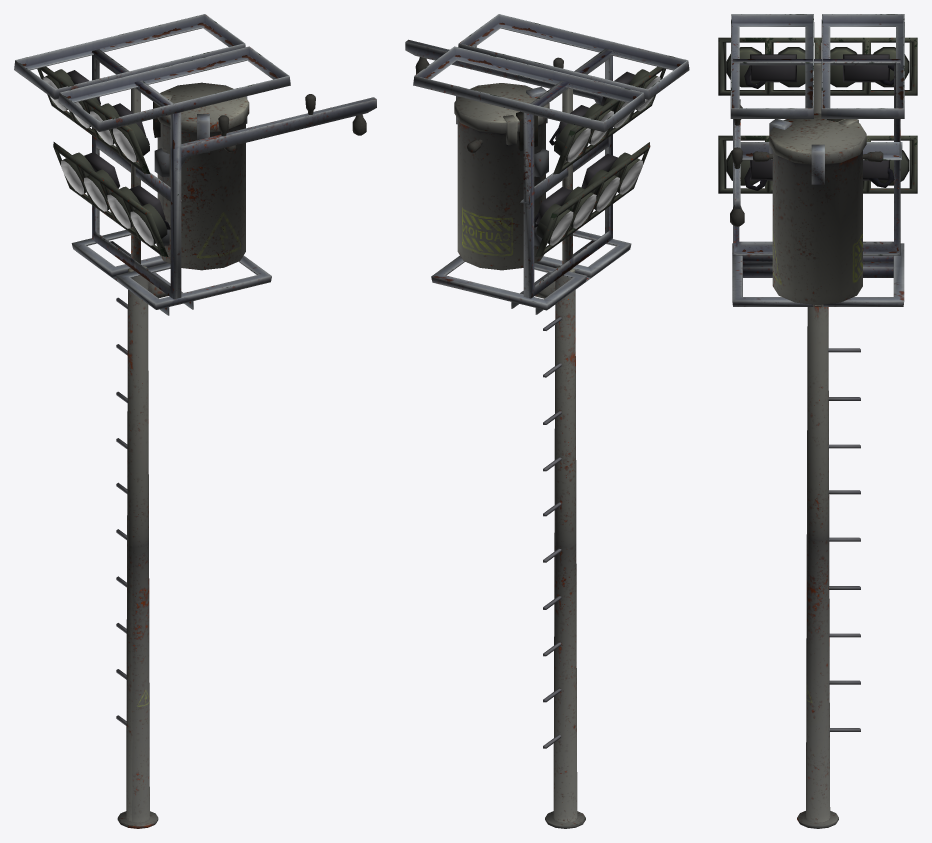
Rendered from Postes_Ilum.obj.
The picture shows the model from 3 angles, left to right: view 1: azimuth 30°, elevation 25°; view 2: azimuth 150°, elevation 25°; view 3: azimuth 270°, elevation 25°; orthographic projection. The views are drawn at different scales.
Visible parts, largest first — view 1: bars_LP_Material.001_0_Material.001, bars_LP_Material.001_0_Luz_Abajo, bars_LP_Material.001_0_Luz_Arriba; view 2: bars_LP_Material.001_0_Material.001, bars_LP_Material.001_0_Luz_Abajo, bars_LP_Material.001_0_Luz_Arriba; view 3: bars_LP_Material.001_0_Material.001.
Boxes of the visible parts, <box> form: bars_LP_Material.001_0_Material.001: <box>14,14,376,828</box>; bars_LP_Material.001_0_Luz_Abajo: <box>61,160,153,245</box>; bars_LP_Material.001_0_Luz_Arriba: <box>43,77,136,162</box>; bars_LP_Material.001_0_Material.001: <box>405,14,689,828</box>; bars_LP_Material.001_0_Luz_Abajo: <box>550,160,642,245</box>; bars_LP_Material.001_0_Luz_Arriba: <box>567,77,660,162</box>; bars_LP_Material.001_0_Material.001: <box>718,14,917,828</box>.
Bounding box in the file's own units: 6.24 × 15.99 × 3.77.
Materials: 3 (1 with a texture image).
